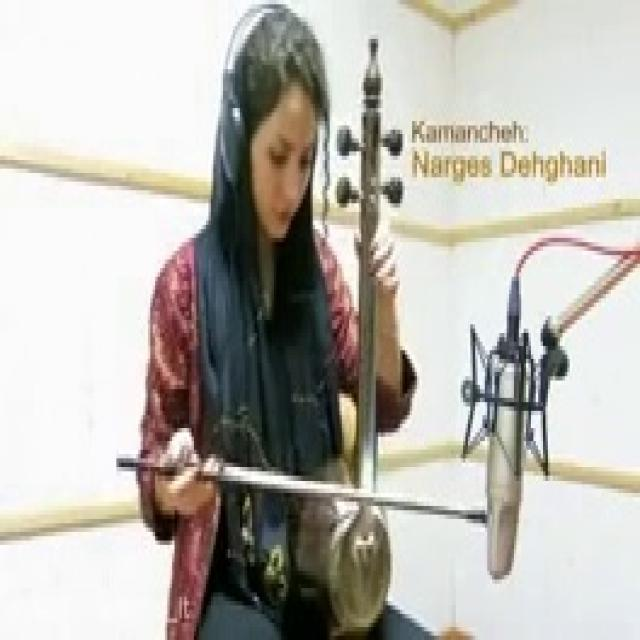Kamanche: (279, 16, 412, 639)
